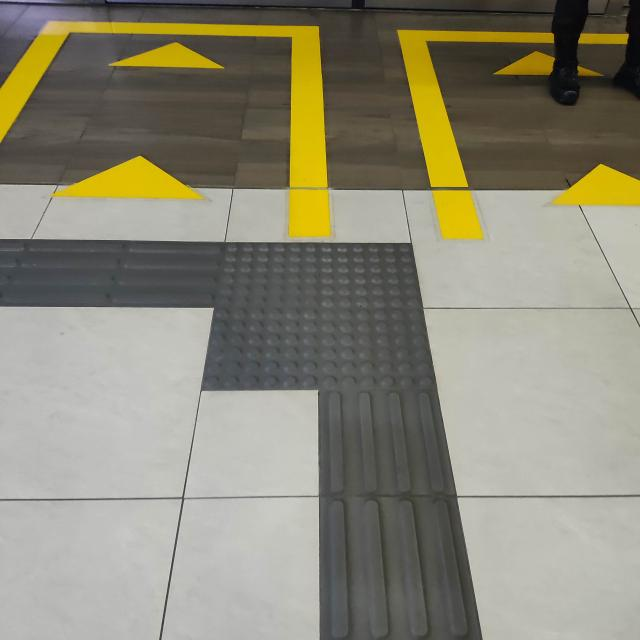kiri: (105, 185, 502, 499)
